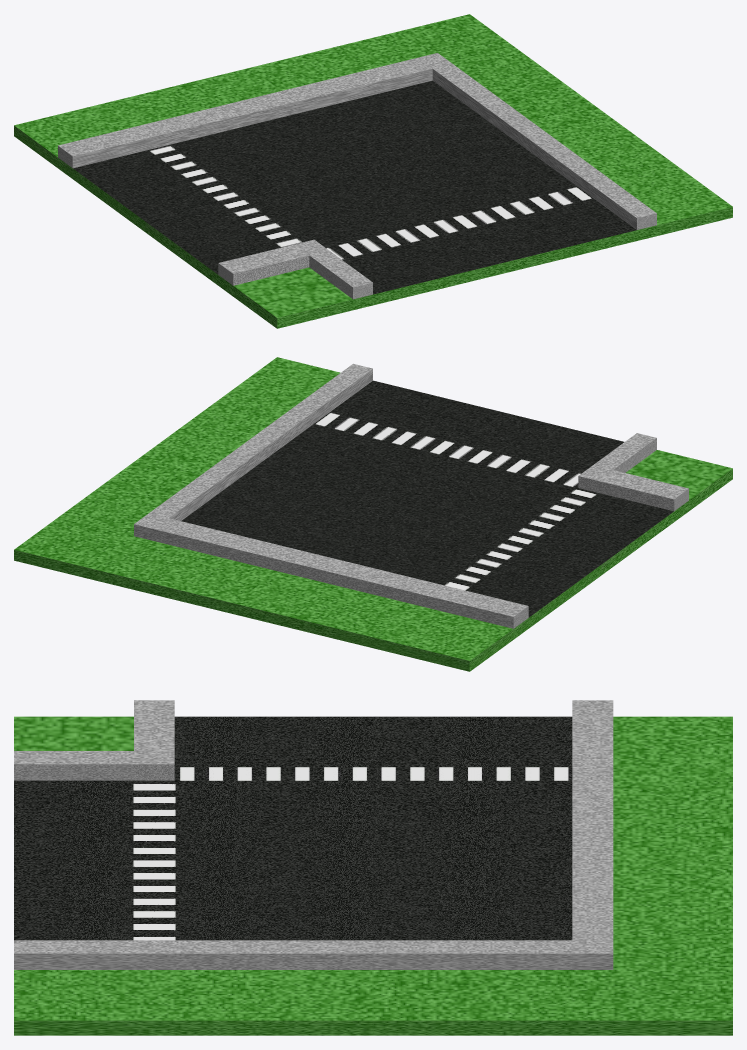
Rendered from CityRoad_Left_Asset.fbx.
3 renders of one model, top to bottom at view 1: azimuth 30°, elevation 25°; view 2: azimuth 150°, elevation 25°; view 3: azimuth 270°, elevation 25°, orthographic. The views are drawn at different scales.
Visible parts, largest first — view 1: CityRoad_Left; view 2: CityRoad_Left; view 3: CityRoad_Left.
Part boxes in pixels (x1=…): CityRoad_Left: x1=14, y1=14, x2=732, y2=328; CityRoad_Left: x1=14, y1=357, x2=732, y2=671; CityRoad_Left: x1=14, y1=700, x2=732, y2=1035.
Size of the model in its own units: 3.15 by 0.1506 by 3.15.
